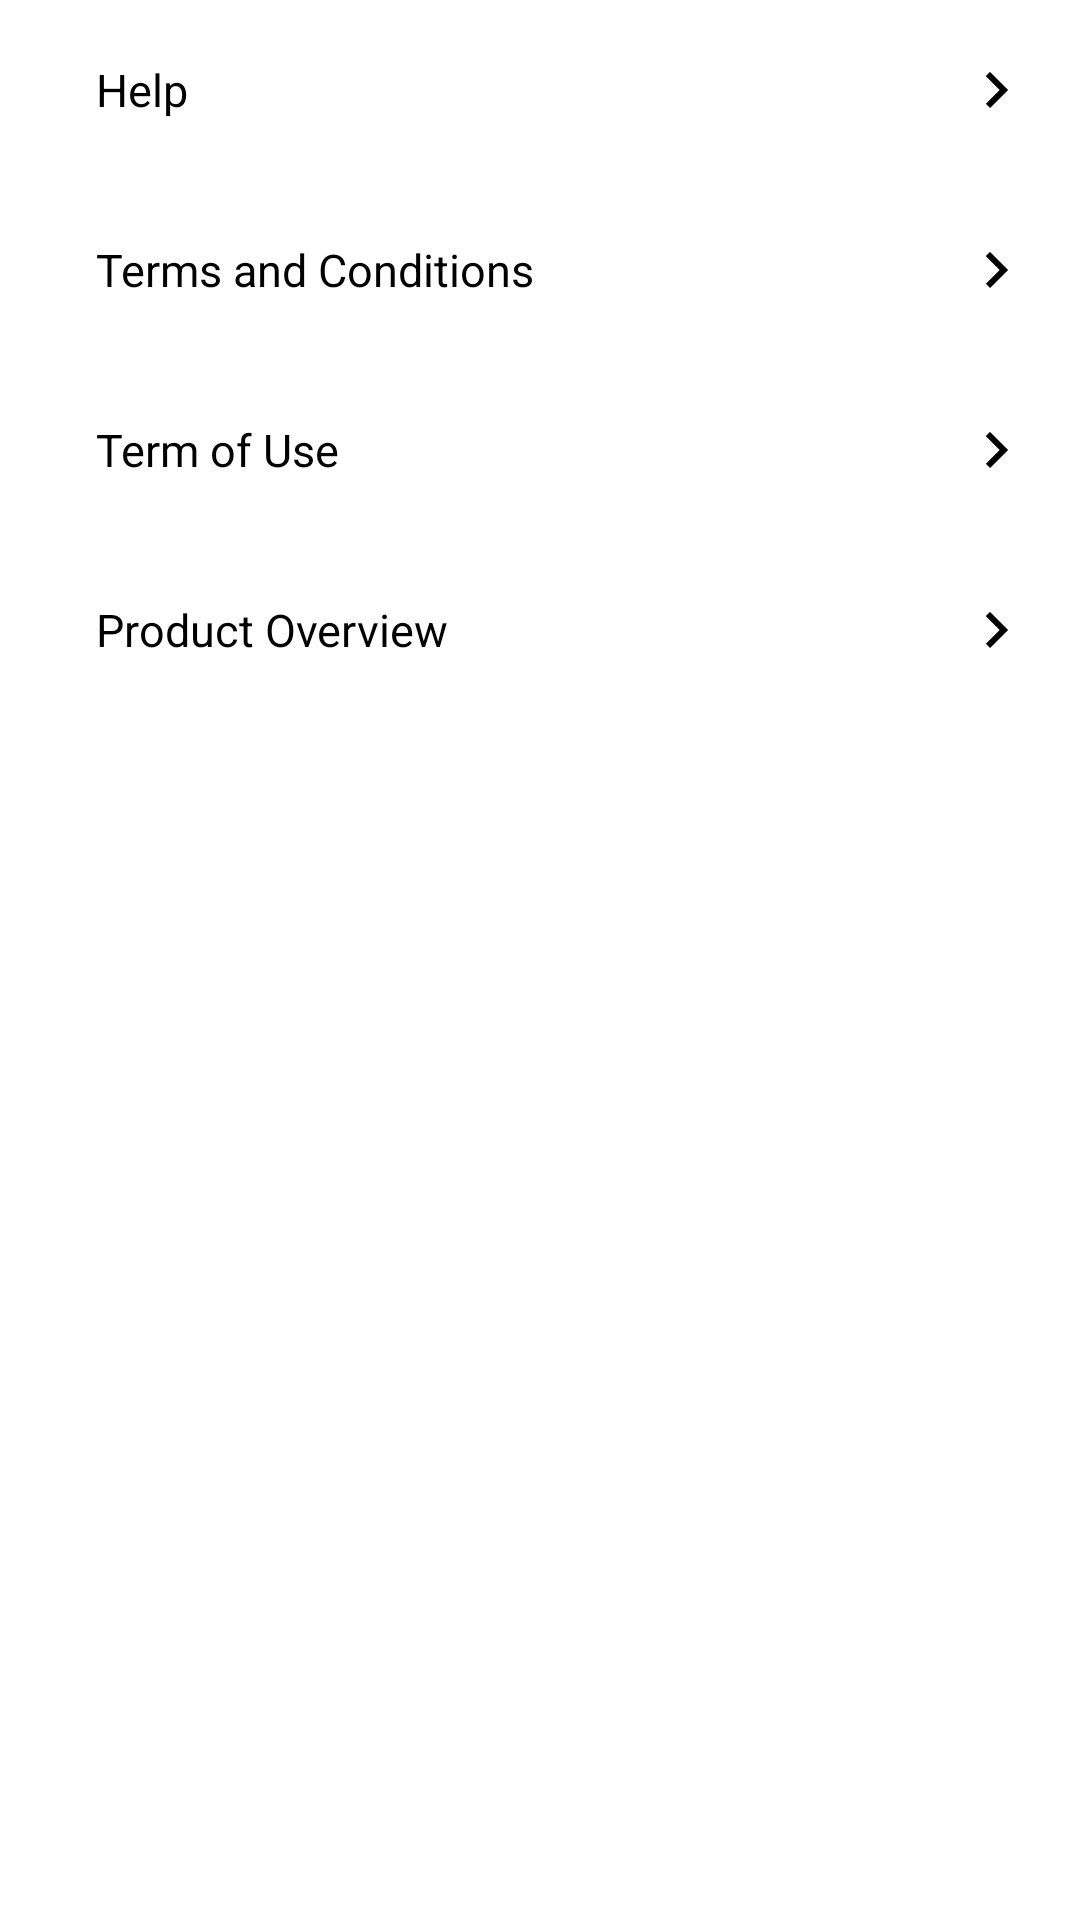

Named icons in this screenshot (1080 × 1920) and their bounding boxes, (x1, y1, x2, y2):
arrow right: (986, 72, 1008, 108), (986, 252, 1008, 288), (986, 432, 1008, 468), (986, 612, 1008, 648)
